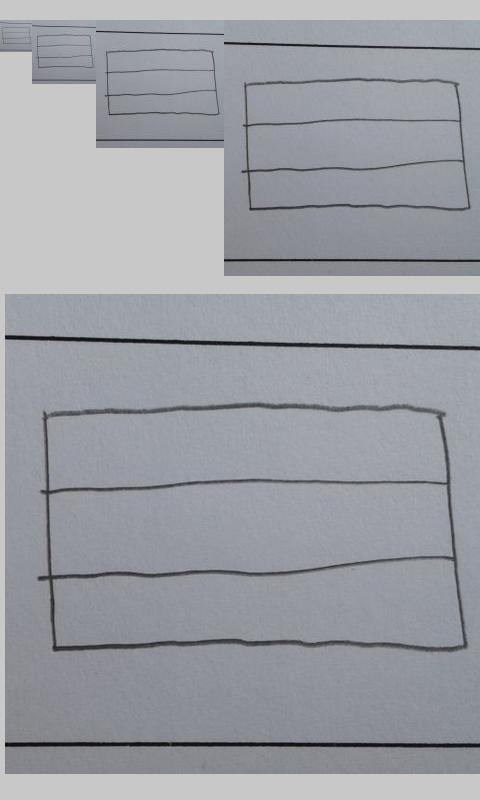list_view: (36, 401, 470, 655), (243, 75, 474, 216), (105, 48, 221, 117), (36, 34, 94, 69), (1, 26, 32, 45)
